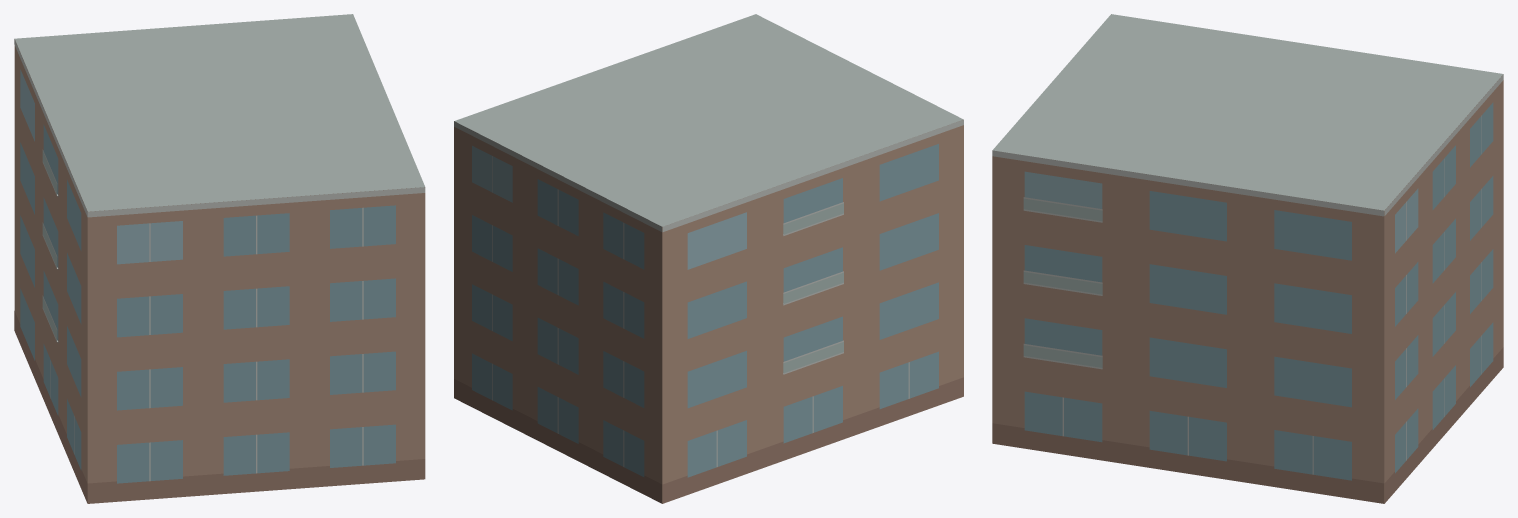
File: survey-upis-32980163.glb
3 views of the same model, side by side, from view 1: azimuth 30°, elevation 25°; view 2: azimuth 150°, elevation 25°; view 3: azimuth 270°, elevation 25° (orthographic). The views are drawn at different scales.
Visible parts, largest first — view 1: survey-upis-32980163.tmp; view 2: survey-upis-32980163.tmp; view 3: survey-upis-32980163.tmp.
Boxes of the visible parts, <box> form: survey-upis-32980163.tmp: <box>14,14,425,503</box>; survey-upis-32980163.tmp: <box>454,14,963,503</box>; survey-upis-32980163.tmp: <box>992,14,1503,503</box>.
Size of the model in its own units: 17.55 by 12.2 by 19.29.
